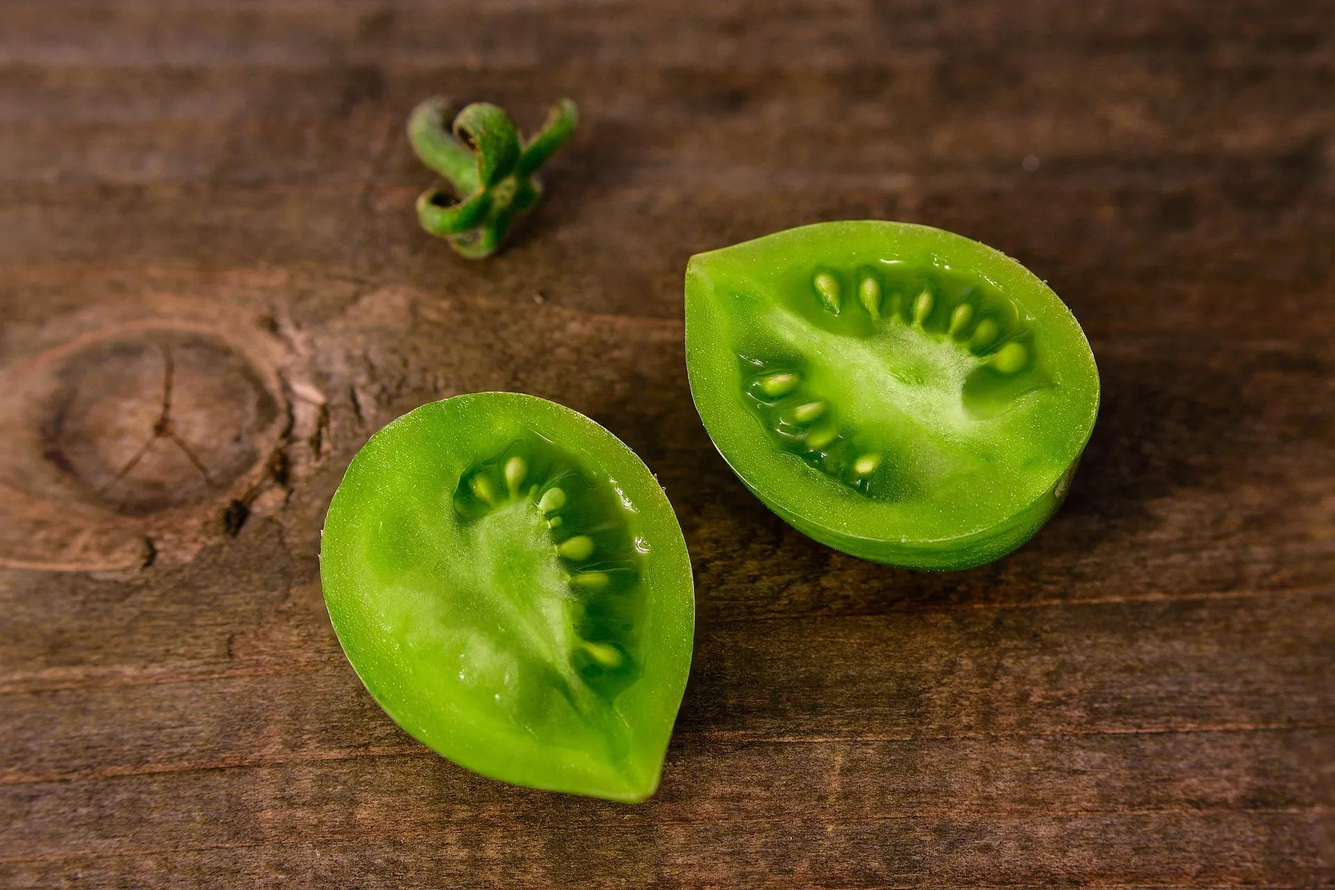Muda: (271, 378, 714, 839), (672, 197, 1108, 580)
